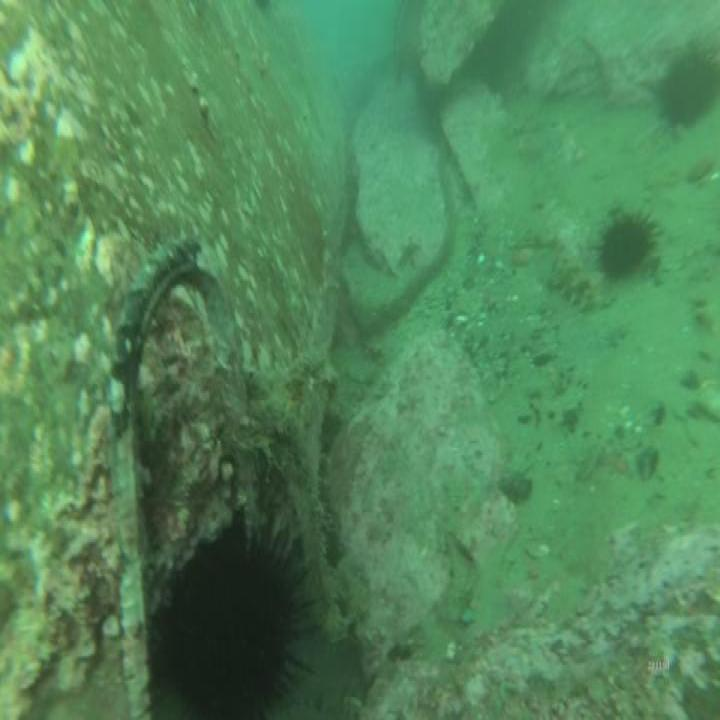echinus: (144, 478, 326, 720), (648, 37, 720, 139), (590, 201, 666, 286)
holothurian: (552, 239, 594, 316)
